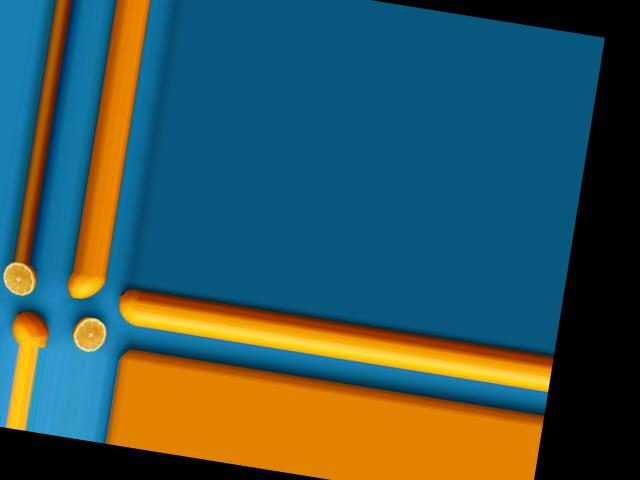lemon: (112, 289, 141, 328)
